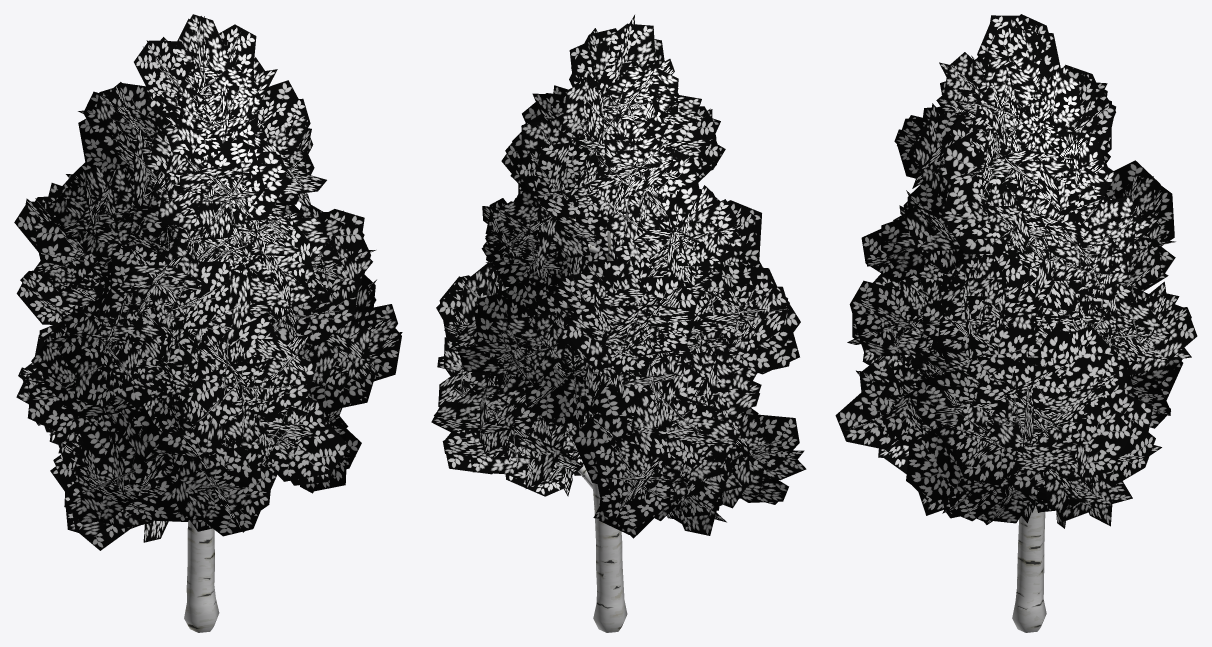
The model's file is P_BirchTree1.obj.
The picture shows the model from 3 angles, left to right: view 1: azimuth 30°, elevation 25°; view 2: azimuth 150°, elevation 25°; view 3: azimuth 270°, elevation 25°; orthographic projection. The views are drawn at different scales.
Size of the model in its own units: 12.44 by 21.52 by 11.59.
